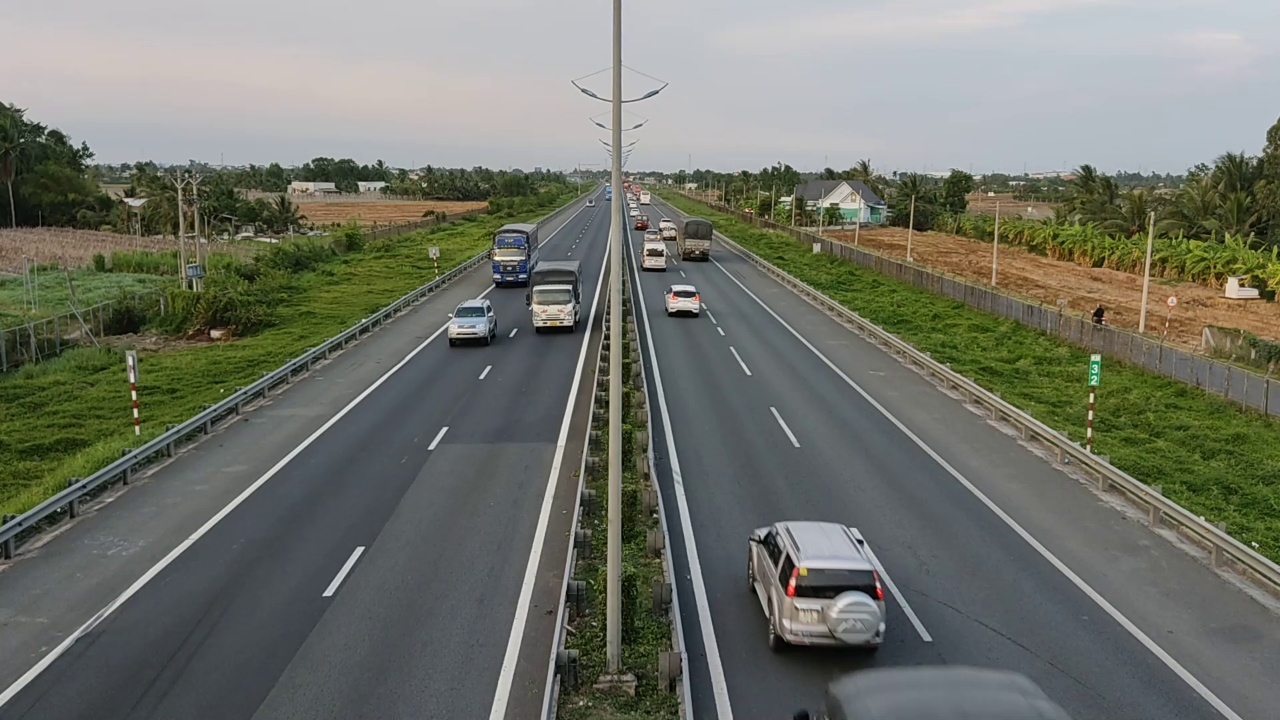bus: (491, 222, 539, 285)
car: (447, 297, 498, 346), (663, 283, 701, 317), (641, 239, 667, 271)
truck: (678, 217, 713, 261)
